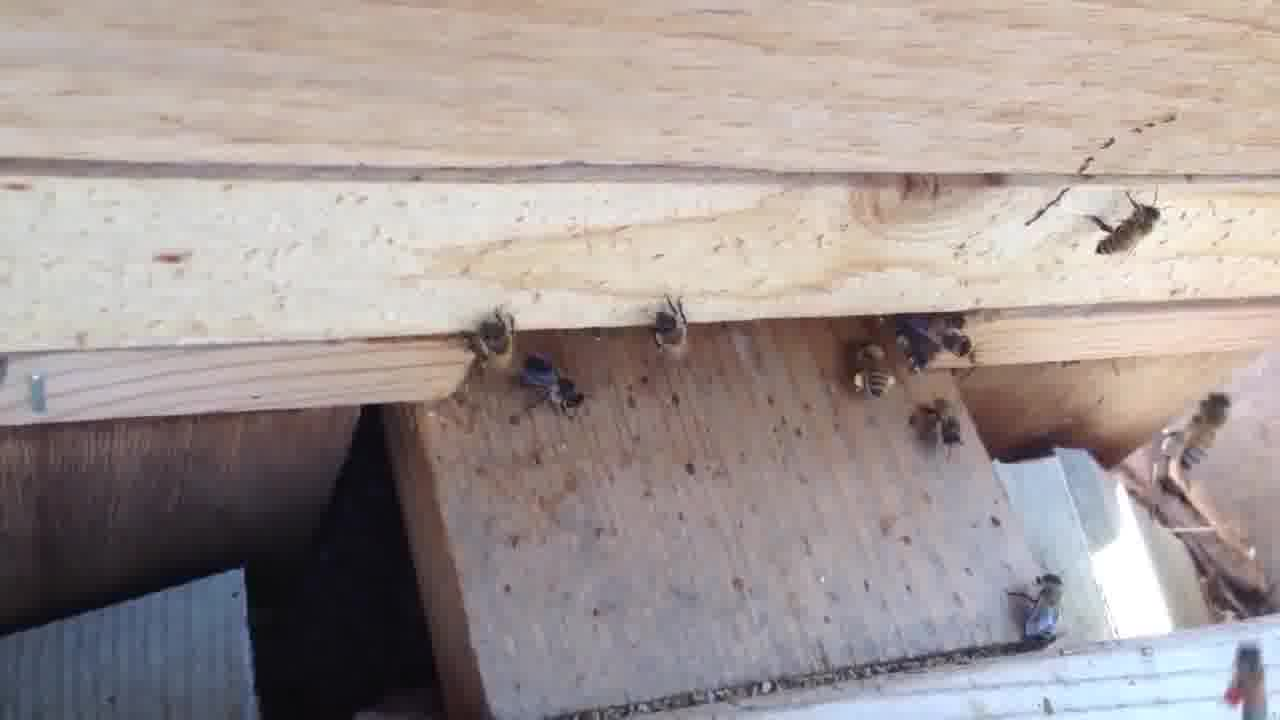pollen: (846, 336, 902, 404)
